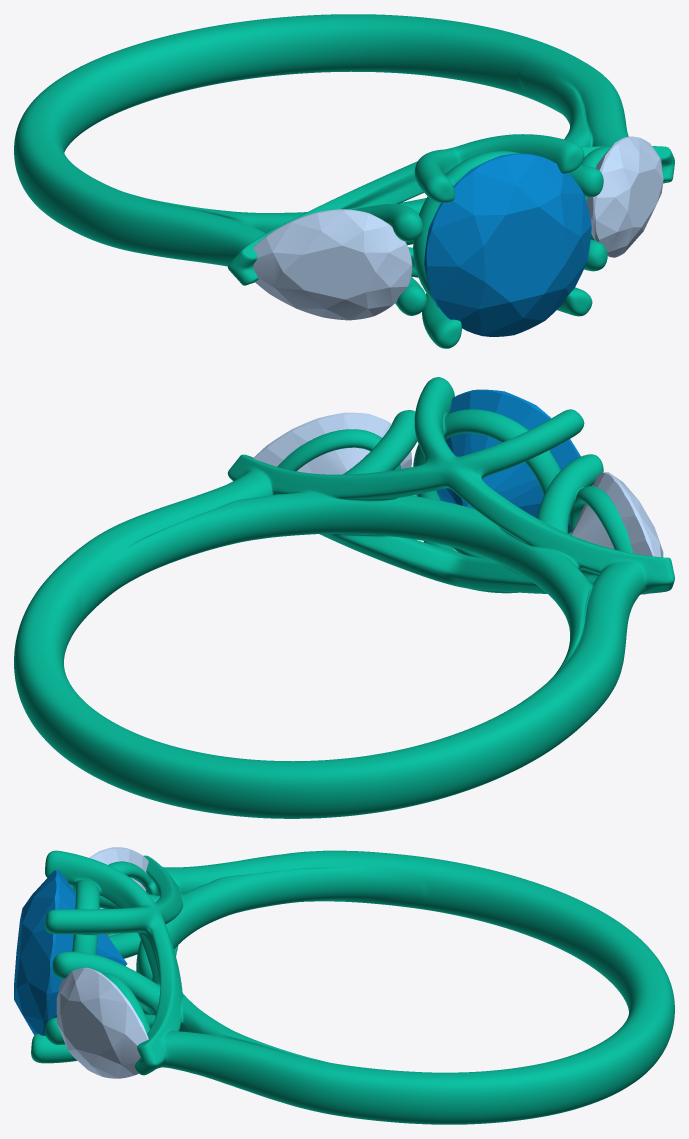
3 renders of one model, top to bottom at view 1: azimuth 30°, elevation 25°; view 2: azimuth 150°, elevation 25°; view 3: azimuth 270°, elevation 25°, orthographic. The views are drawn at different scales.
Parts seen in each view (by area): view 1: 1F.3dm, Diamond_Round, Diamond_Pear (×2); view 2: 1F.3dm, Diamond_Pear (×2), Diamond_Round; view 3: 1F.3dm, Diamond_Pear (×2), Diamond_Round.
Boxes of the visible parts, x1,y1,x2,y2 form: 1F.3dm: (14, 14, 674, 348); Diamond_Round: (424, 153, 591, 336); Diamond_Pear (×2): (253, 136, 663, 320); 1F.3dm: (14, 377, 674, 818); Diamond_Pear (×2): (253, 412, 663, 594); Diamond_Round: (436, 389, 580, 533); 1F.3dm: (31, 850, 674, 1124); Diamond_Pear (×2): (56, 847, 148, 1078); Diamond_Round: (14, 870, 127, 1035).
Bounding box in the file's own units: 2.53 × 0.7859 × 3.
